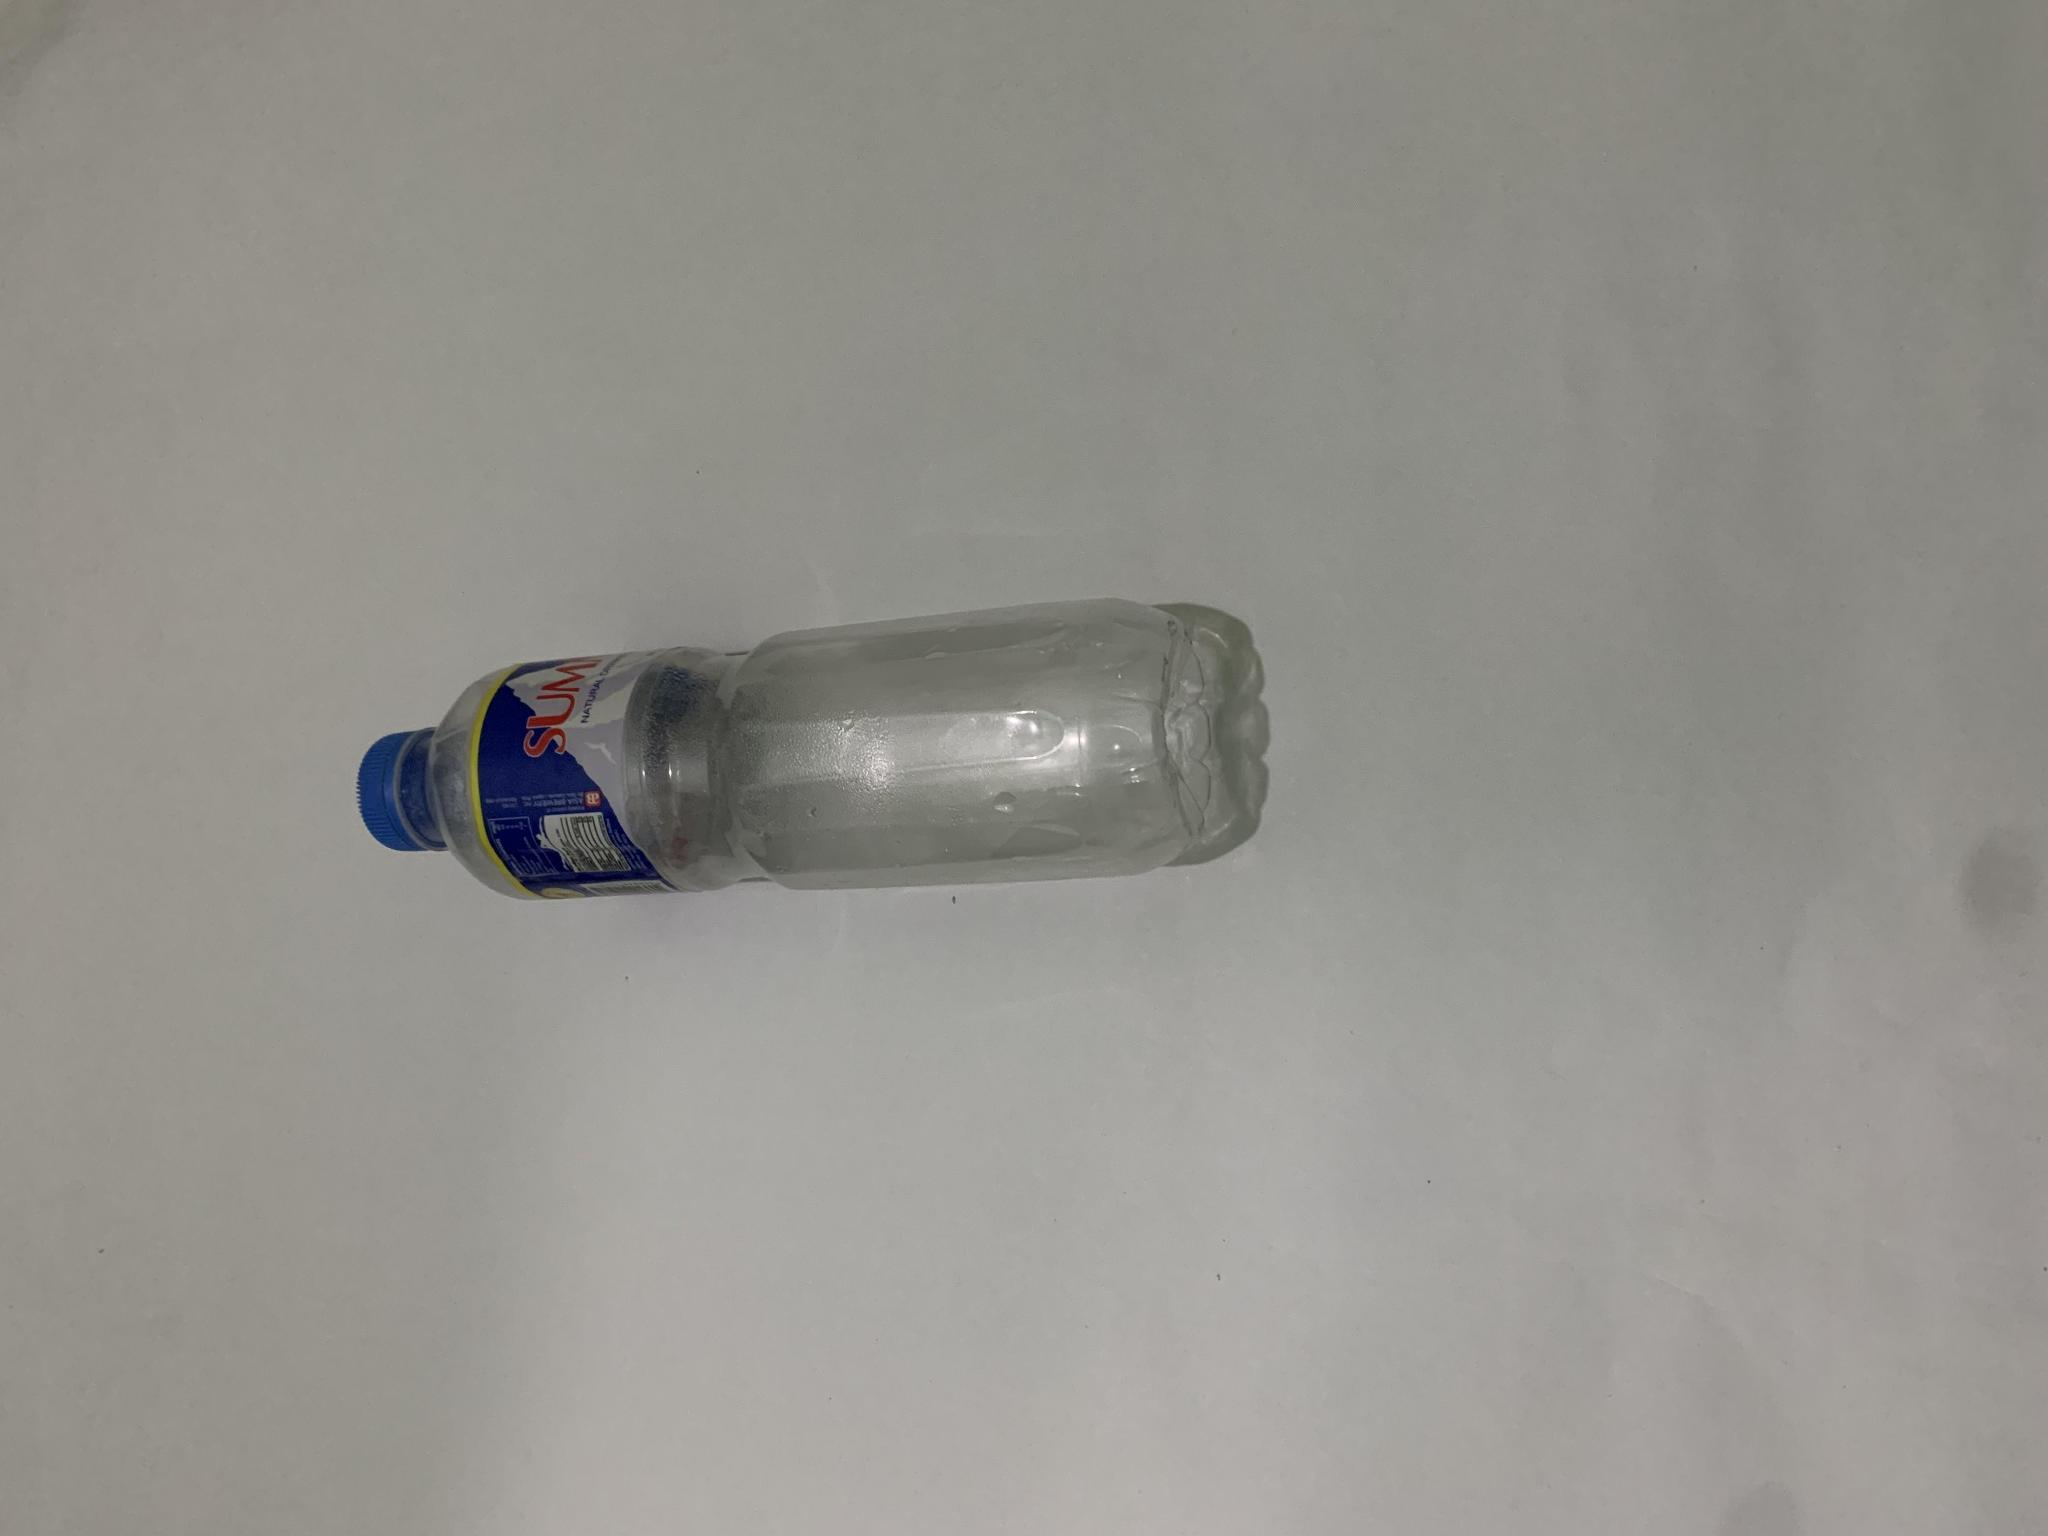bottle: (329, 484, 1300, 929)
